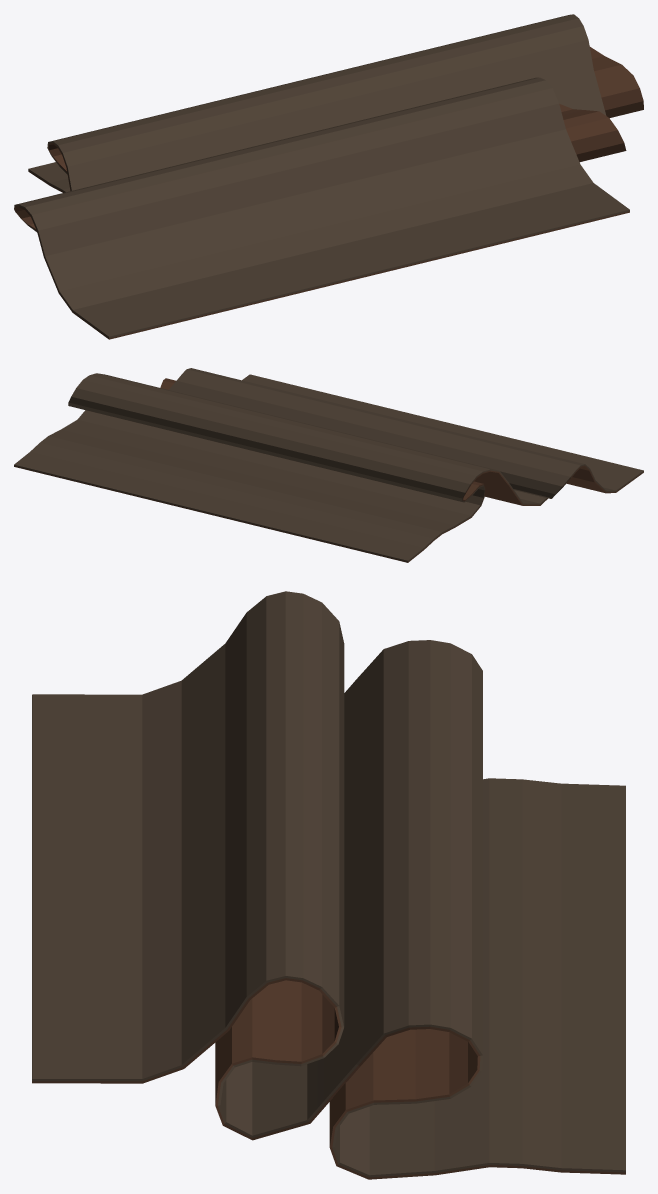
Rendered from SM_FLATCHE.glb.
3 views of the same model, one above another, from view 1: azimuth 30°, elevation 25°; view 2: azimuth 150°, elevation 25°; view 3: azimuth 270°, elevation 25° (orthographic). The views are drawn at different scales.
Visible parts, largest first — view 1: SM_FLATCHE; view 2: SM_FLATCHE; view 3: SM_FLATCHE.
Boxes of the visible parts, left/top/right/bottom form: SM_FLATCHE: left=14, top=14, right=643, bottom=339; SM_FLATCHE: left=14, top=368, right=643, bottom=562; SM_FLATCHE: left=32, top=591, right=625, bottom=1179.
Bounding box in the file's own units: 1.13 × 0.1437 × 0.6013.
1 material, 1 textured.
